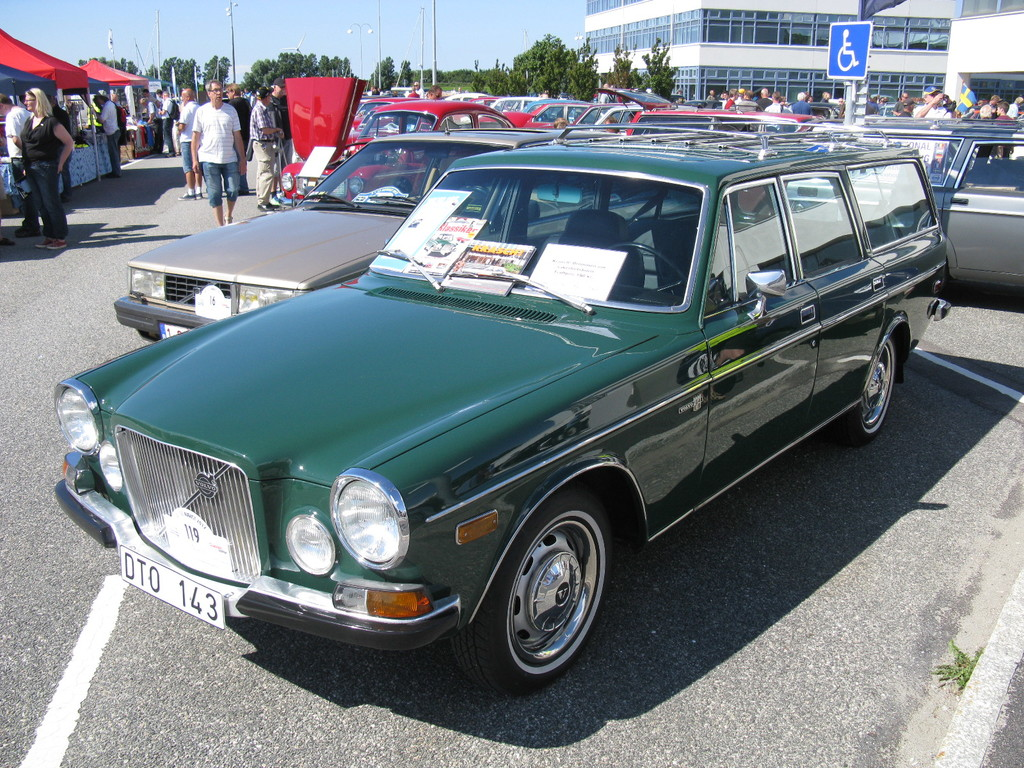Car: (45, 131, 952, 700), (268, 72, 1023, 295), (111, 132, 627, 338)
